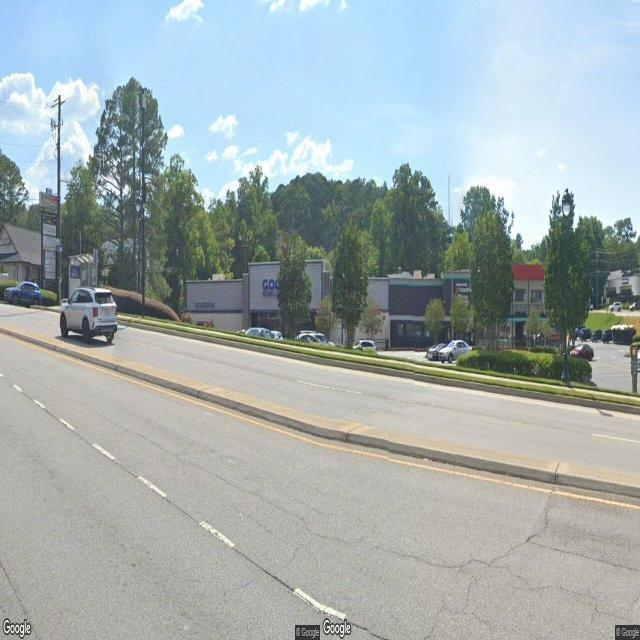shelter: (68, 253, 100, 300)
